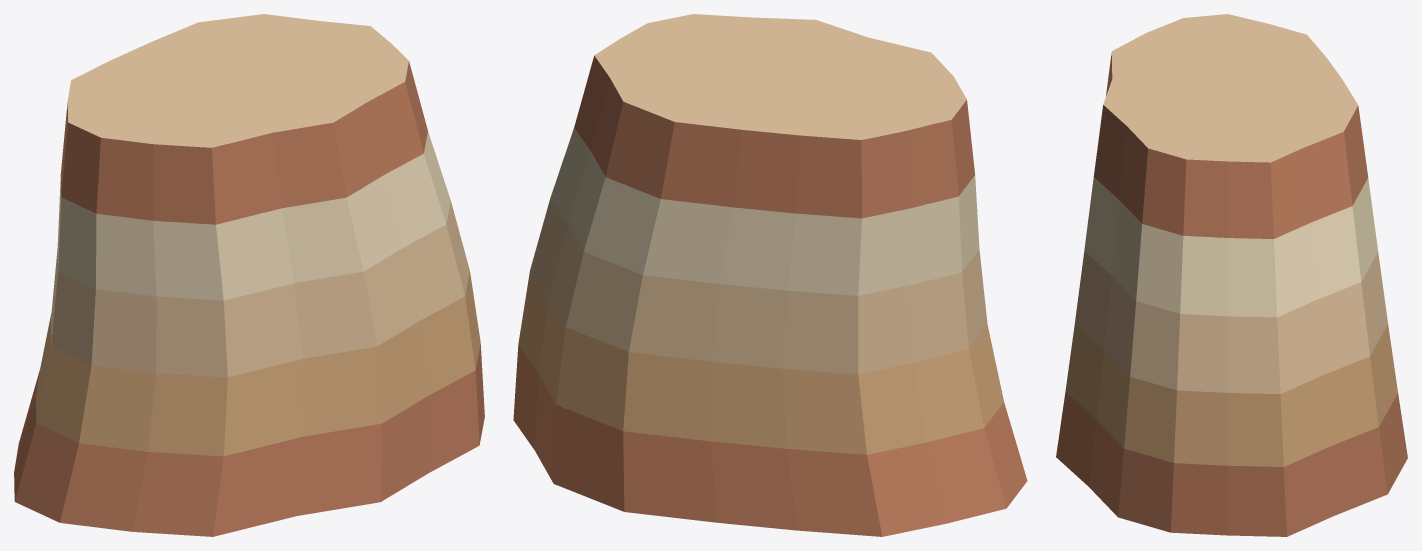
File: desert-canyons-and-oases-banded-block-2-e1a6e78c__20925.glb
3 views of the same model, side by side, from view 1: azimuth 30°, elevation 25°; view 2: azimuth 150°, elevation 25°; view 3: azimuth 270°, elevation 25° (orthographic). The views are drawn at different scales.
Parts seen in each view (by area): view 1: banded-block-2; view 2: banded-block-2; view 3: banded-block-2.
Part boxes in pixels (left/top/right/bottom): banded-block-2: left=14, top=14, right=484, bottom=536; banded-block-2: left=513, top=14, right=1027, bottom=536; banded-block-2: left=1056, top=14, right=1407, bottom=536.
Bounding box in the file's own units: 2.69 × 2.1 × 1.96.
